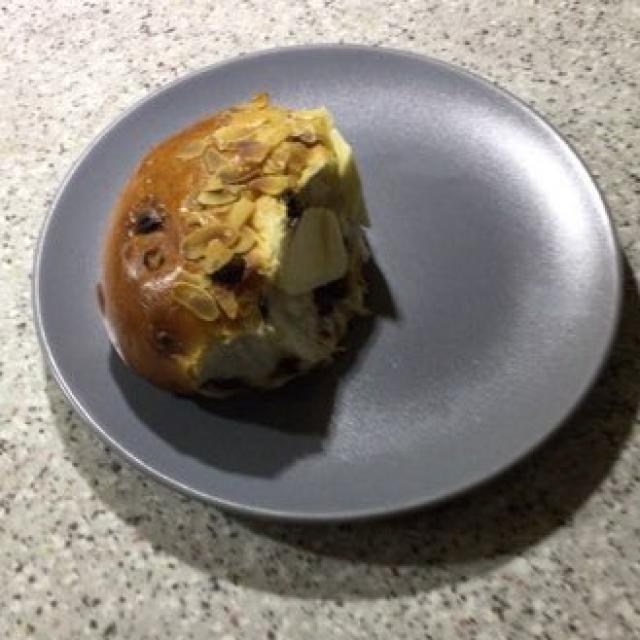bread: (102, 96, 384, 396)
